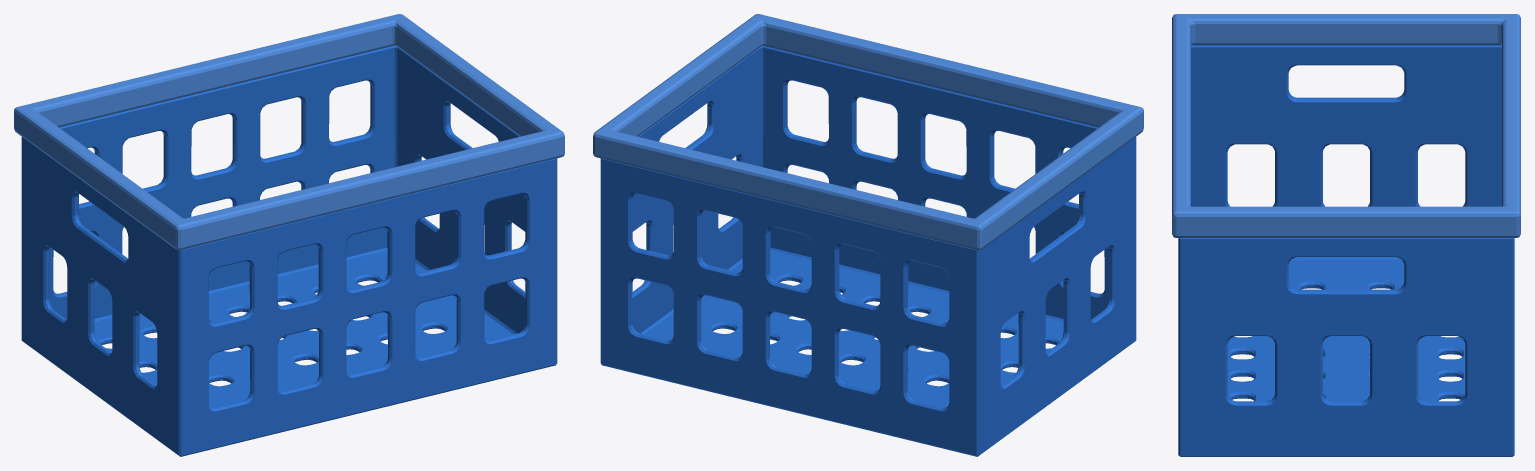
File: crate.obj
The picture shows the model from 3 angles, left to right: view 1: azimuth 30°, elevation 25°; view 2: azimuth 150°, elevation 25°; view 3: azimuth 270°, elevation 25°; orthographic projection. The views are drawn at different scales.
Visible parts, largest first — view 1: Crate; view 2: Crate; view 3: Crate.
Boxes of the visible parts, x1,y1,x2,y2 form: Crate: (14,14,564,456); Crate: (593,14,1143,456); Crate: (1172,14,1520,456).
Size of the model in its own units: 0.452 by 0.26 by 0.332.
